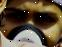with_mask: (2, 2, 62, 47)
